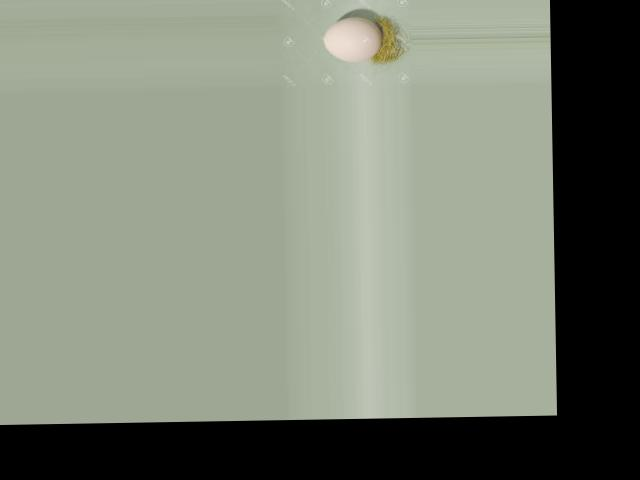egg: (322, 16, 381, 61)
